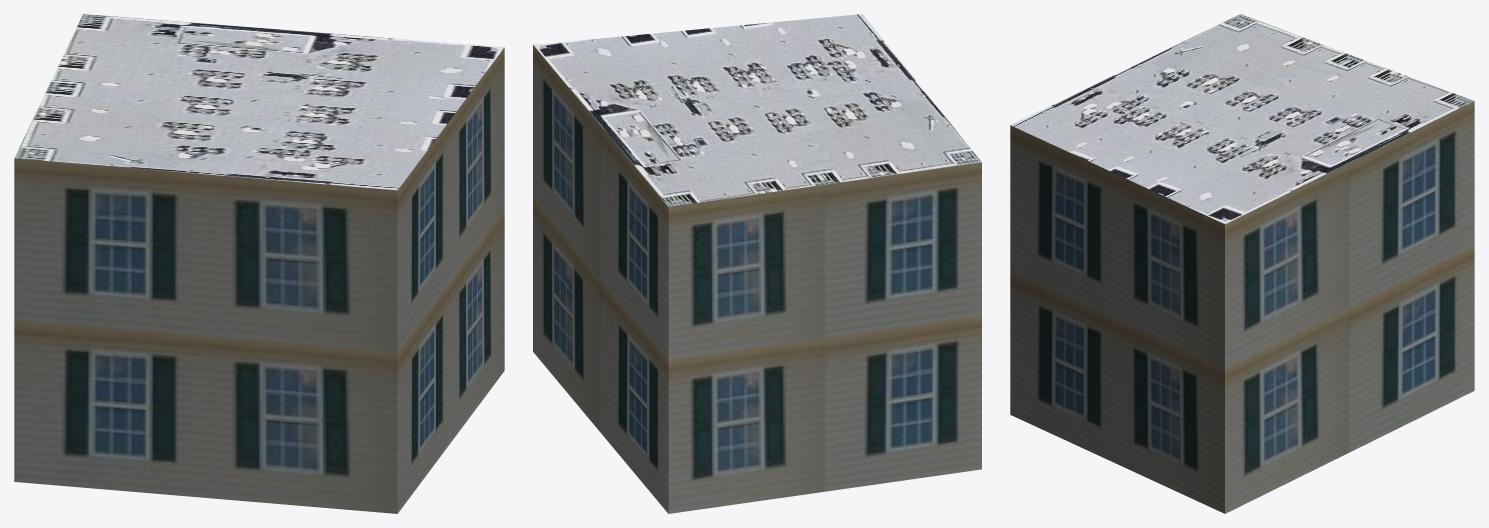
File: ResTex__3457.fbx
3 renders of one model, left to right at view 1: azimuth 30°, elevation 25°; view 2: azimuth 150°, elevation 25°; view 3: azimuth 270°, elevation 25°, orthographic. The views are drawn at different scales.
Visible parts, largest first — view 1: CityEngineMaterial_7_m, CityEngineMaterial_8_m; view 2: CityEngineMaterial_7_m, CityEngineMaterial_8_m; view 3: CityEngineMaterial_7_m, CityEngineMaterial_8_m.
Boxes of the visible parts, left/top/right/bottom form: CityEngineMaterial_7_m: left=14, top=47, right=504, bottom=513; CityEngineMaterial_8_m: left=14, top=14, right=504, bottom=190; CityEngineMaterial_7_m: left=533, top=45, right=981, bottom=513; CityEngineMaterial_8_m: left=533, top=14, right=981, bottom=206; CityEngineMaterial_7_m: left=1010, top=101, right=1474, bottom=513; CityEngineMaterial_8_m: left=1010, top=14, right=1474, bottom=224.
Bounding box in the file's own units: 9.35 × 6 × 8.72.
Materials: 2 (2 with a texture image).
